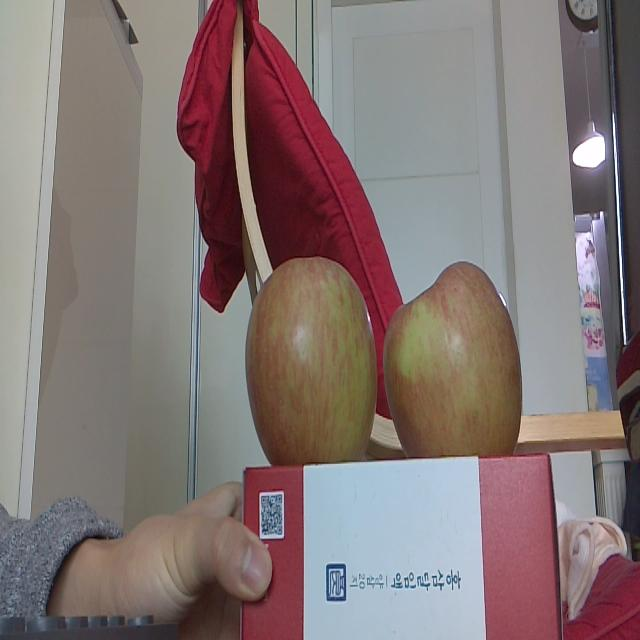apple: (384, 255, 525, 461), (244, 249, 378, 461)
